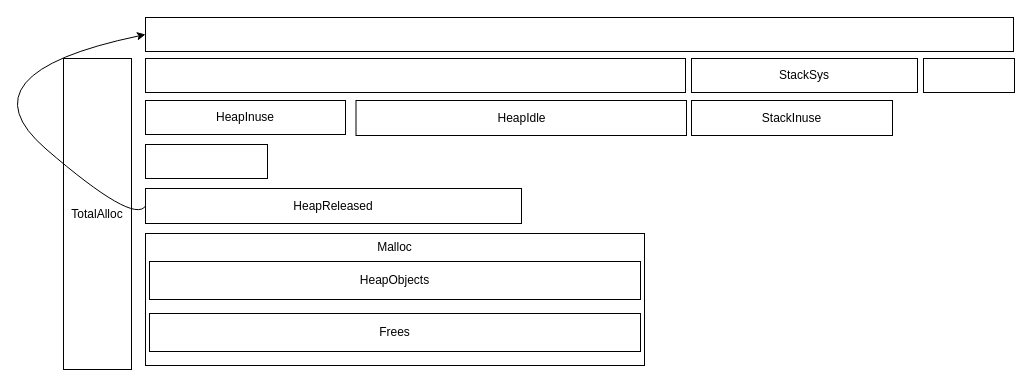
This 1033x387 diagram has some shape labels left out. The shapes that lost their labels are listed below. From the top down, each one's centre as x and y in pixels, then its label:
At pixel 579 34: "Sys".
At pixel 415 75: "HeapSys".
At pixel 968 75: "OtherSys".
At pixel 206 161: "Alloc/HeapAlloc".
